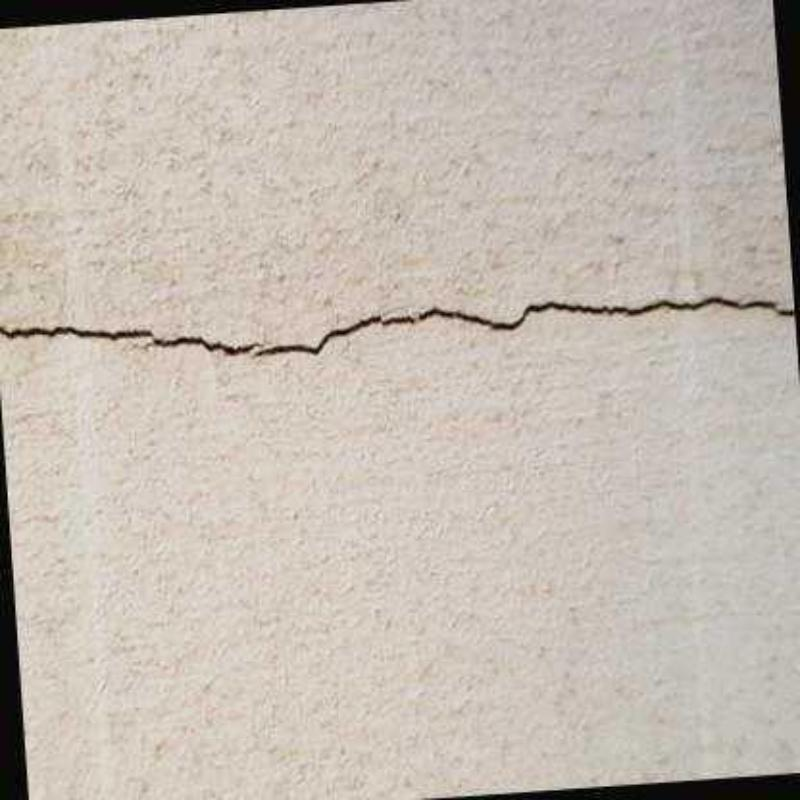pothole: (1, 297, 796, 360)
